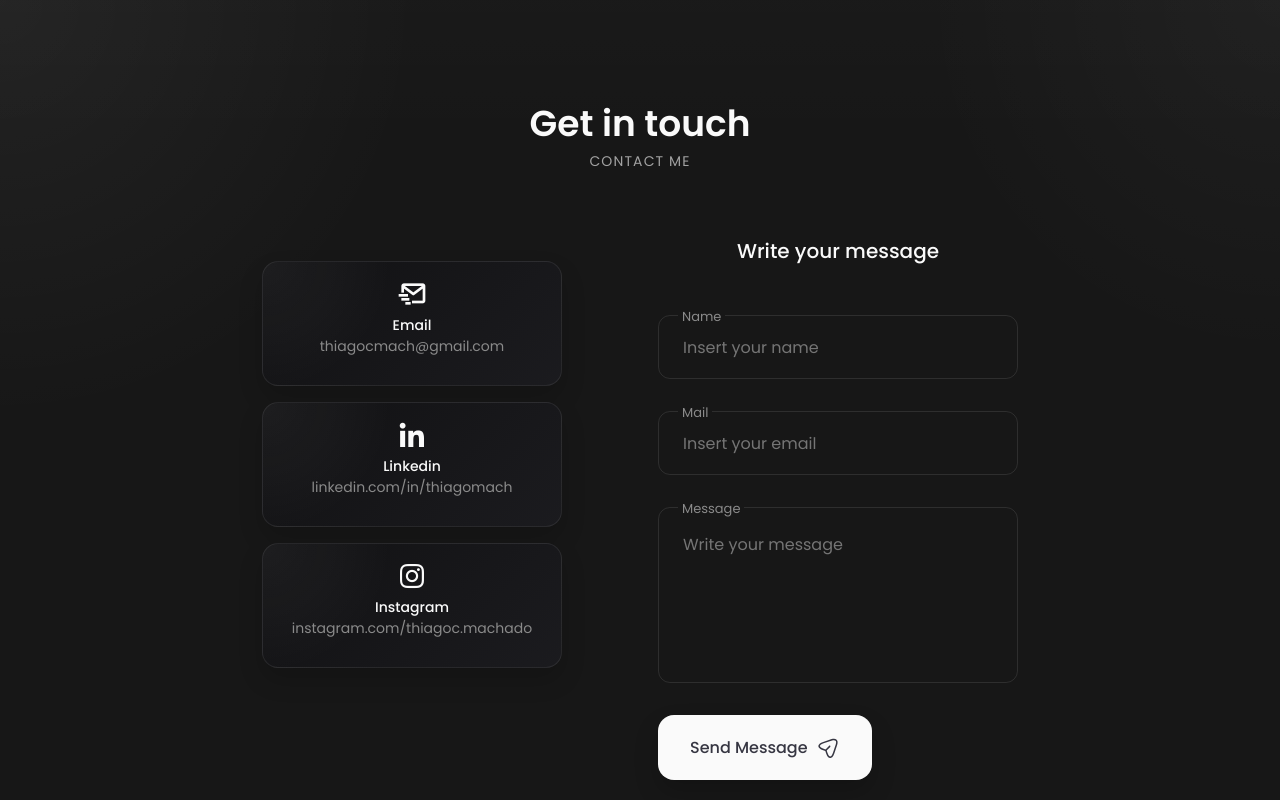
Scenario: Contact › shows an error message when the server rejects the request
Type "Thiago" into the field labelled "Name".
click(838, 347); type("Thiago")  # box [658,315,1018,379]
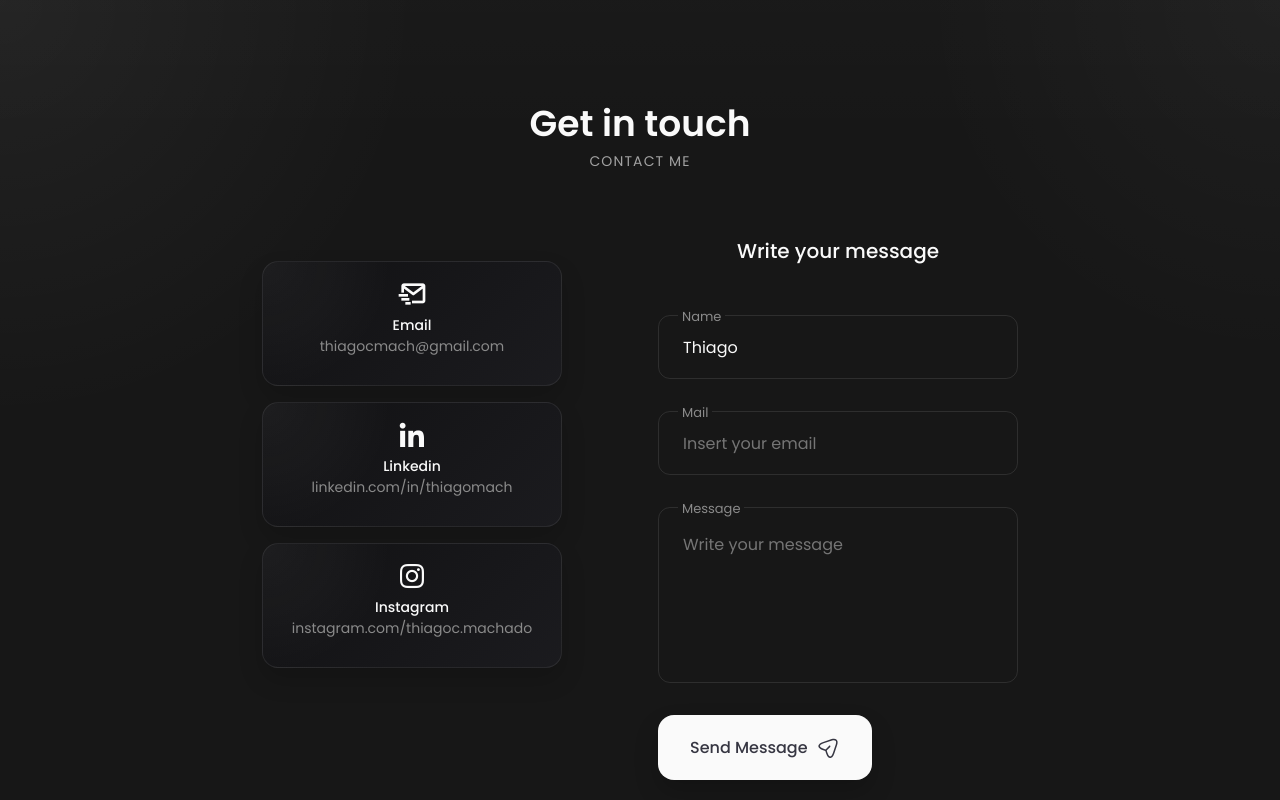
Type "thiago@example.com" into the field labelled "Mail".
click(838, 443); type("thiago@example.com")  # box [658,411,1018,475]
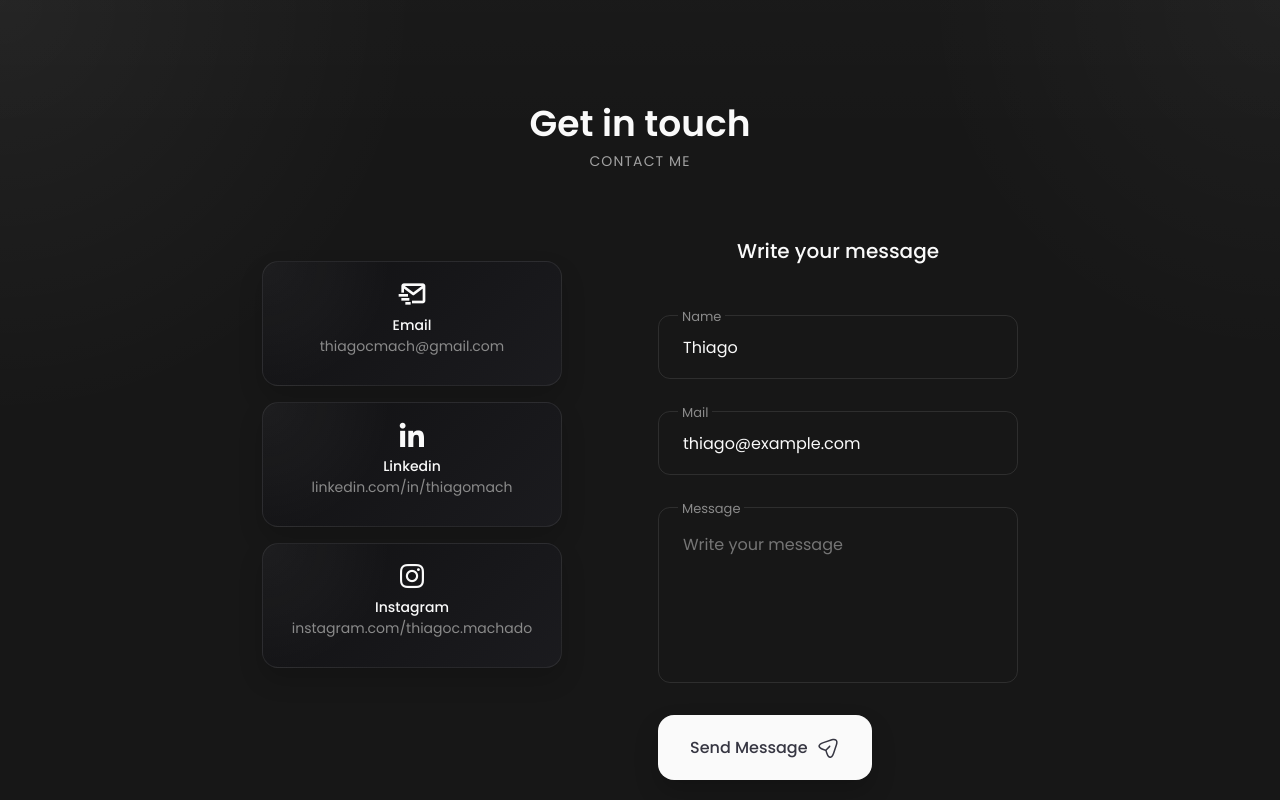
Type "Hello there" into the text box labelled "Message".
click(838, 595); type("Hello there")  # box [658,507,1018,683]
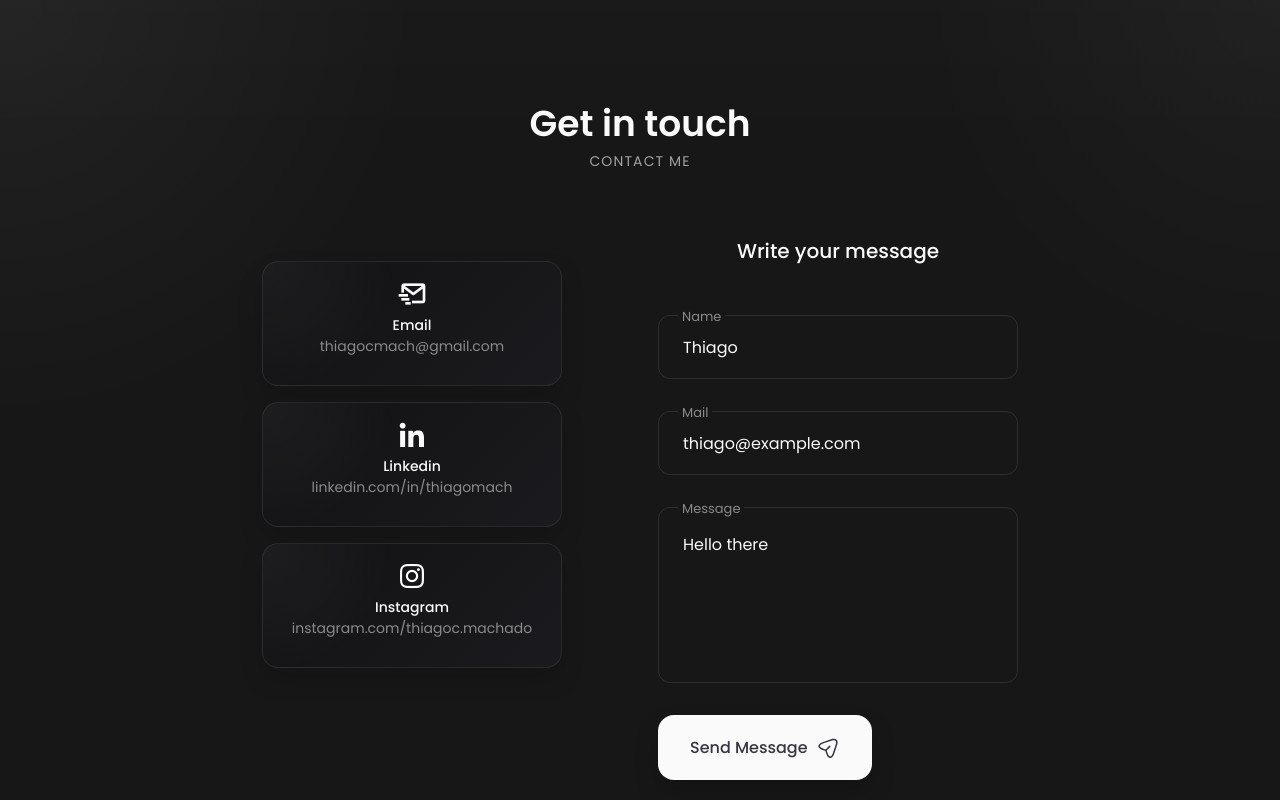
Click the button "Send Message".
click(765, 748)  # box [658,715,872,780]
(page scrolled)
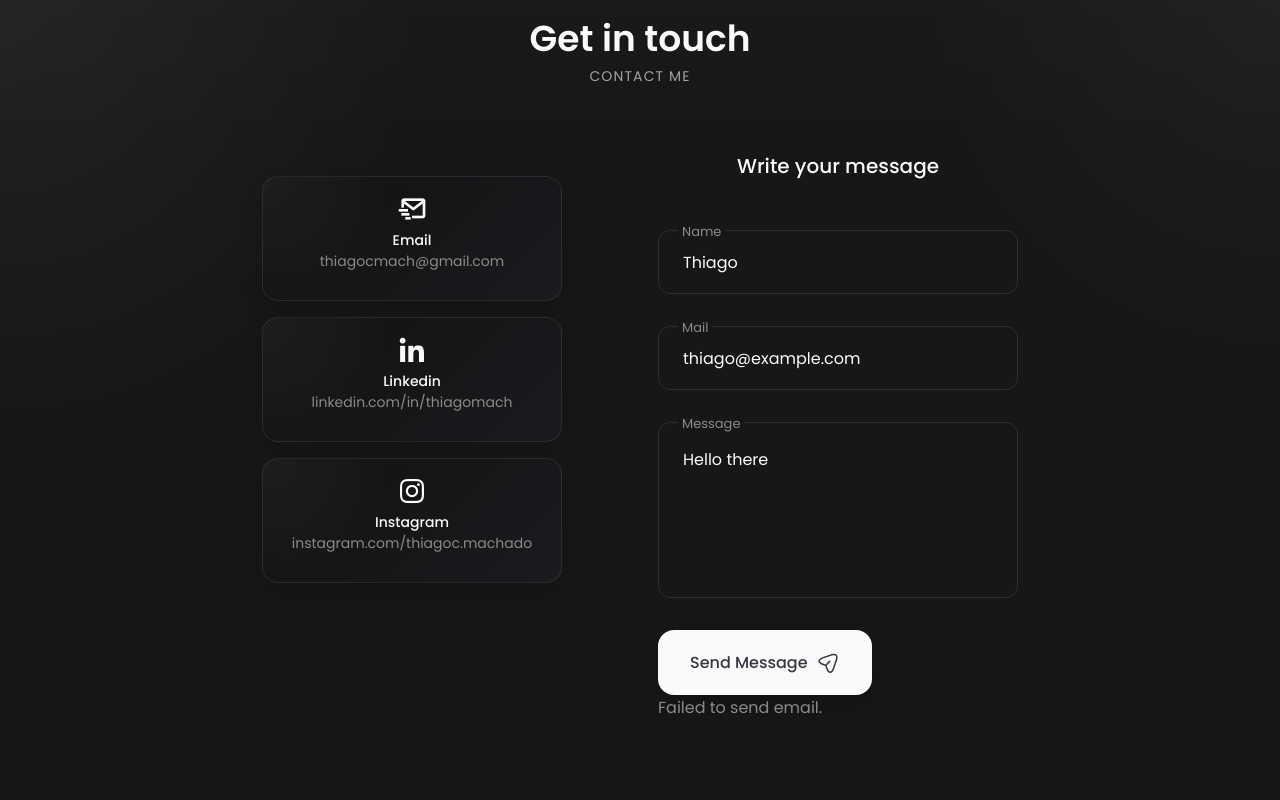
Result: the text "Failed to send email." is shown at [658,696,822,719]
